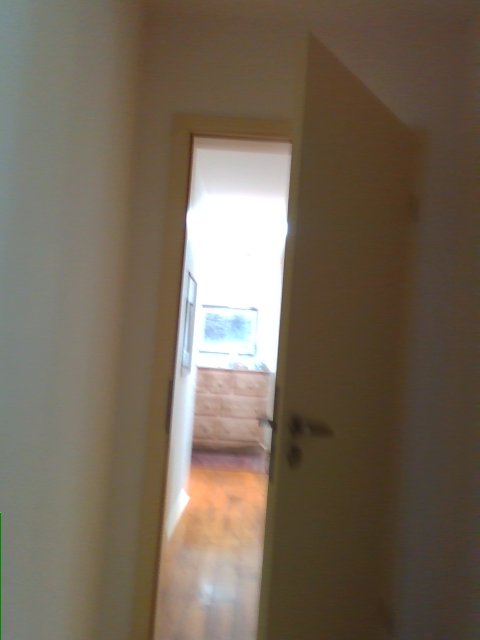semi: (123, 20, 422, 639)
